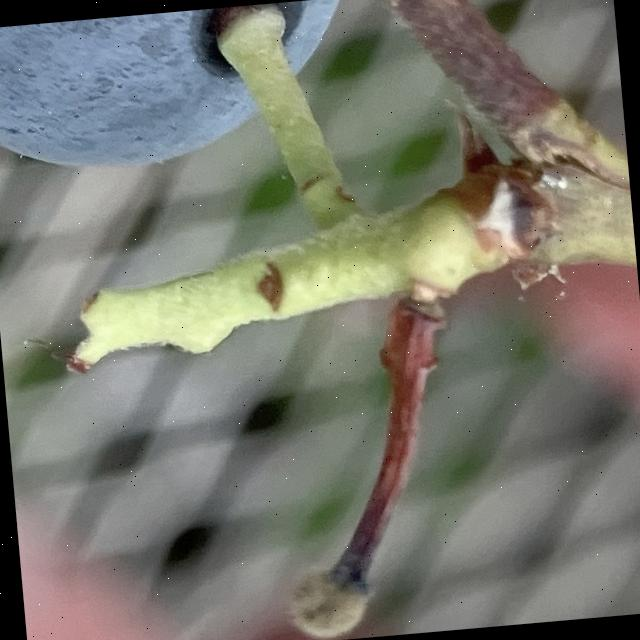Blueberries: (0, 0, 382, 187)
